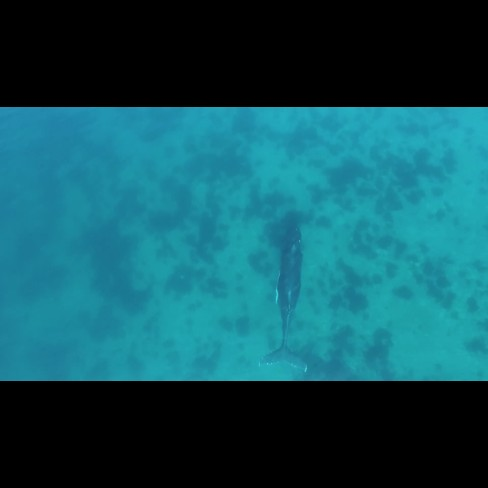hump: (257, 218, 315, 375)
